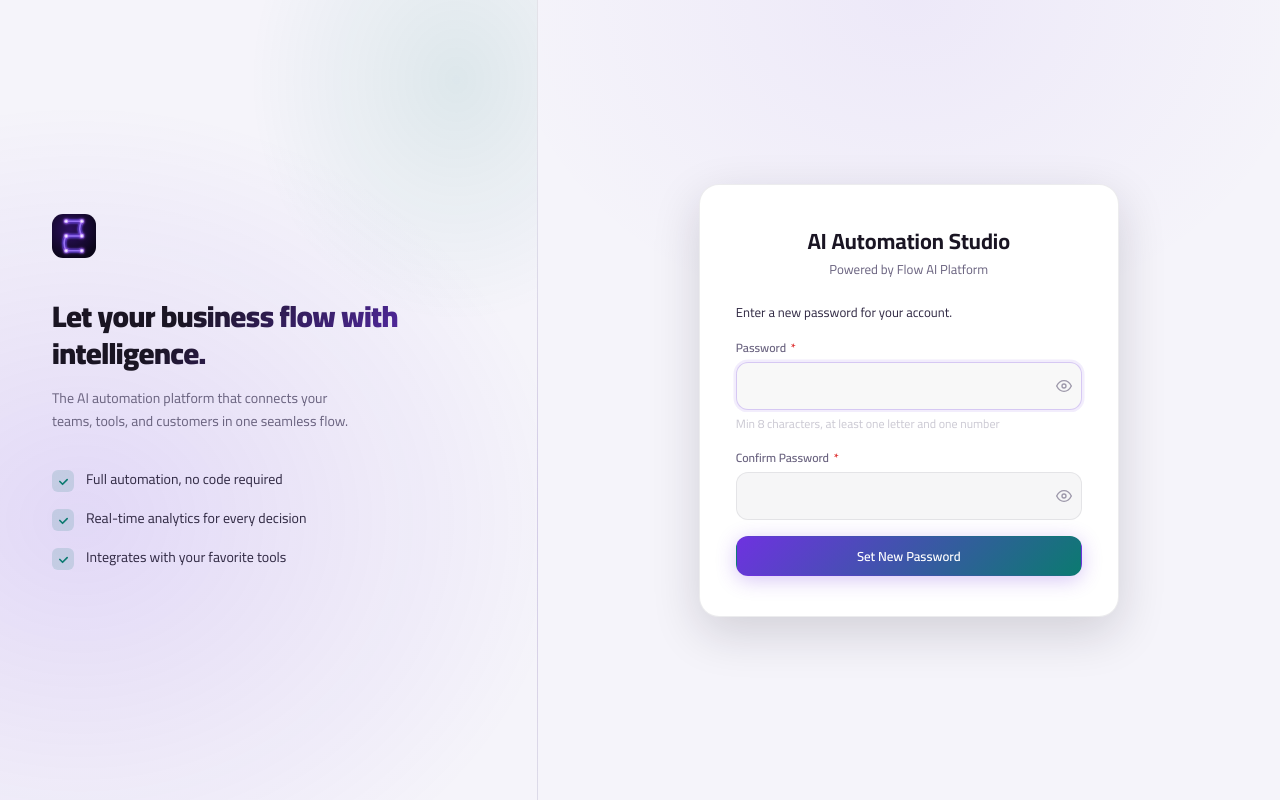
Scenario: AuthPage — password reset tab (URL token flow) › reset form shows validation error when passwords do not match
Step 1. Type "NewPass1!" into the password field labelled "Password *" → (909, 386), box [736, 362, 1082, 410]
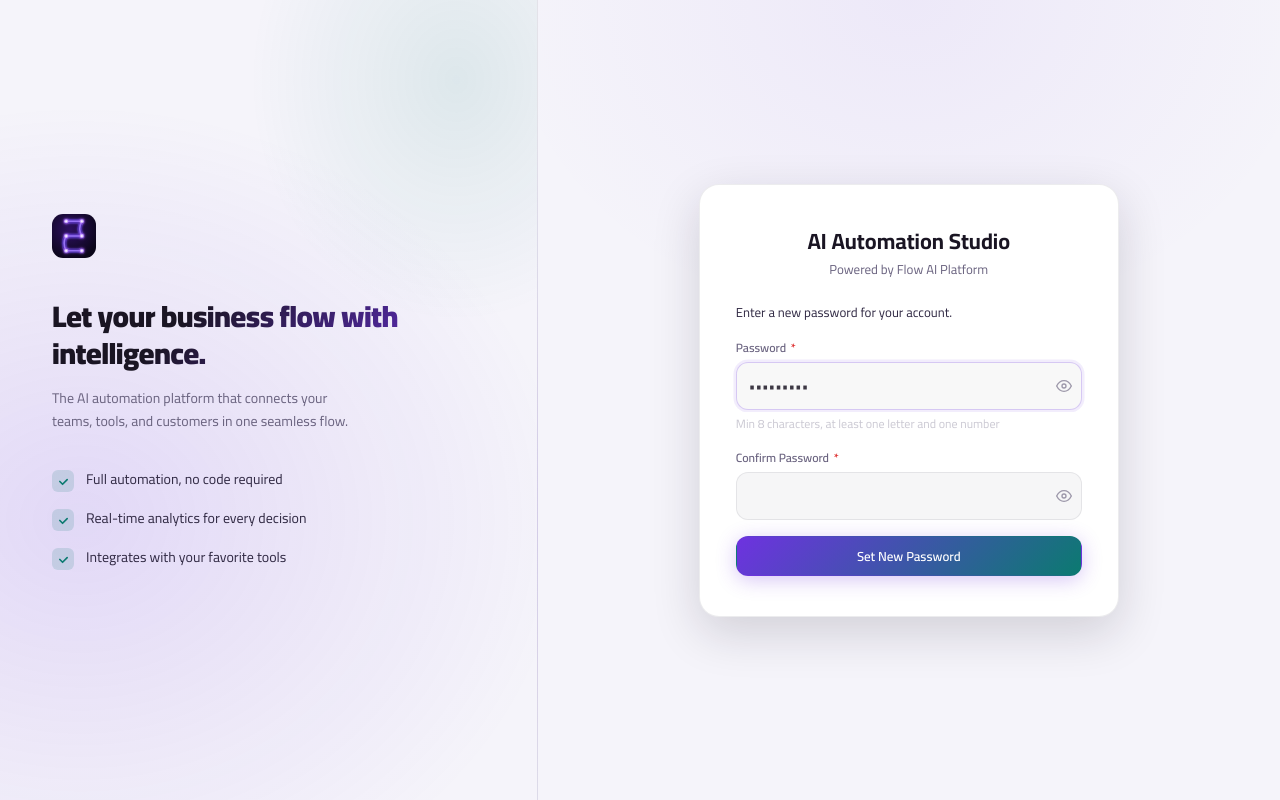
Step 2. Type "Different1!" into the password field labelled "Confirm Password *" → (909, 496), box [736, 472, 1082, 520]
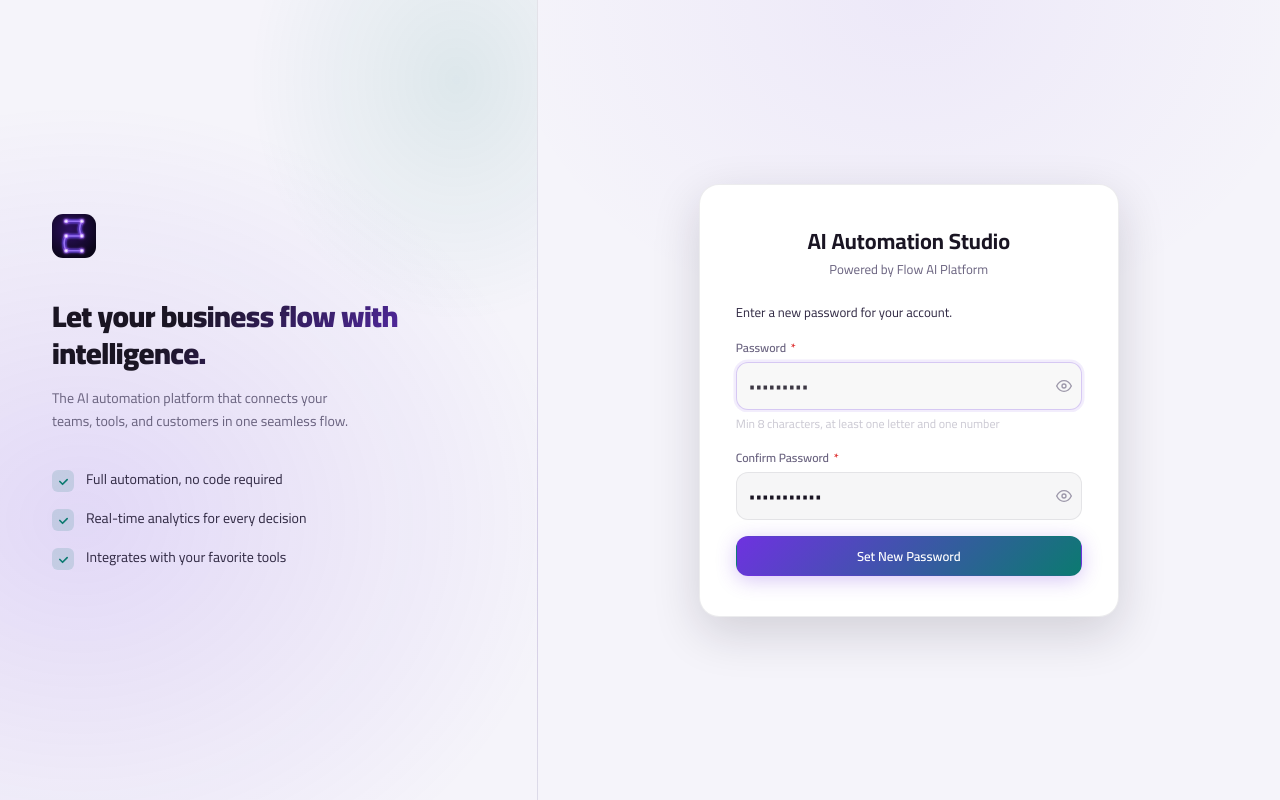
Step 3. Click the button "Set New Password" → (909, 556), box [736, 536, 1082, 576]
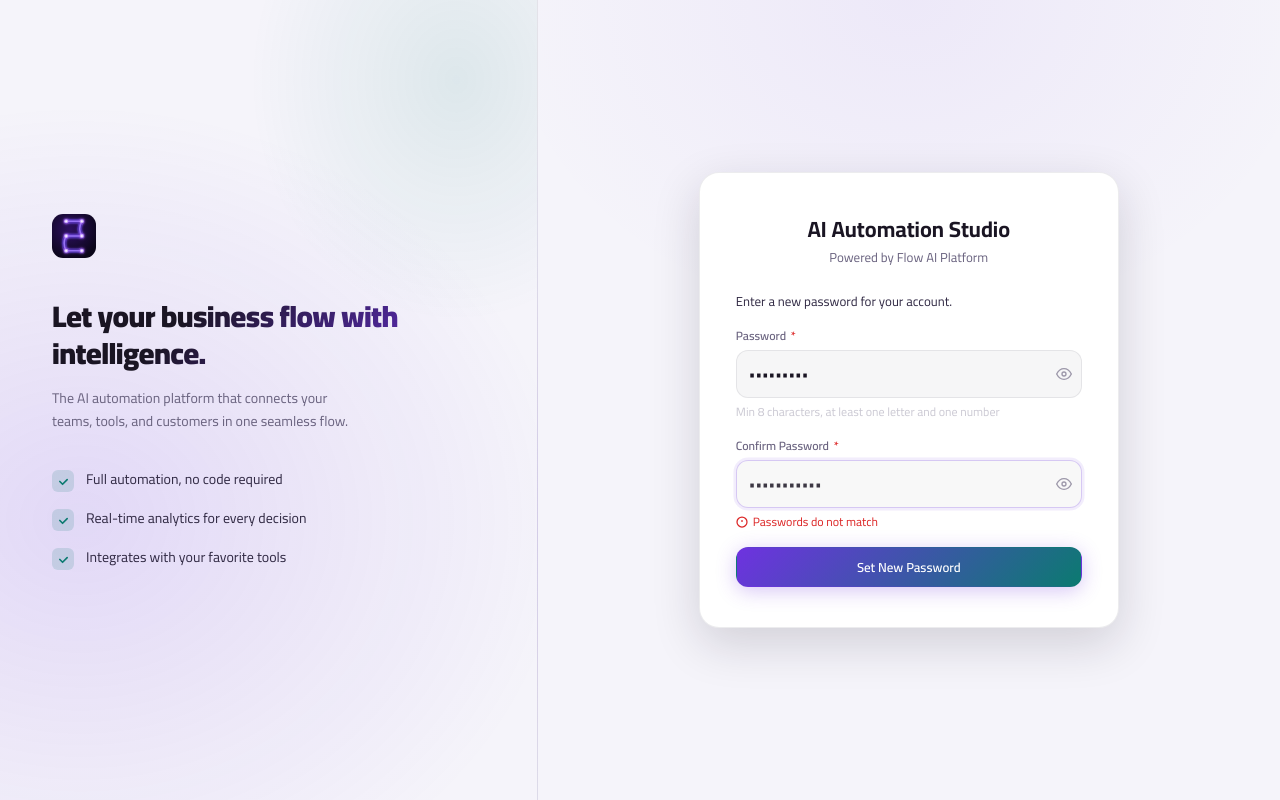
Check: the text "Passwords do not match" is shown, box [736, 510, 878, 533]
